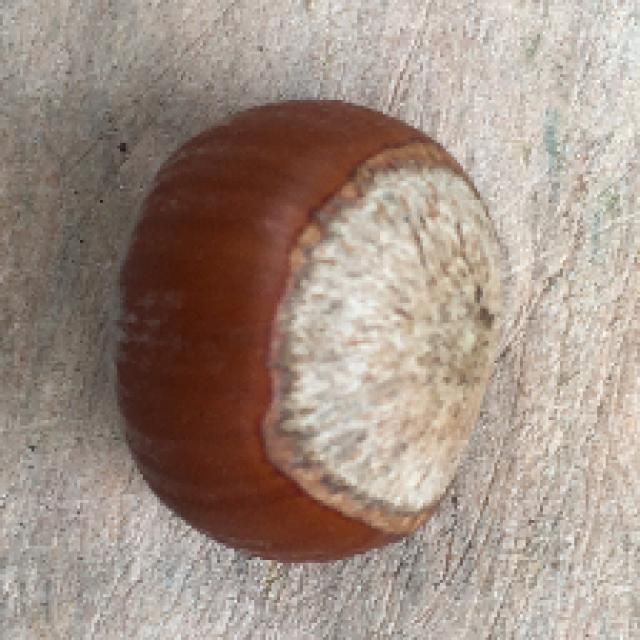qualityHazelnut: (104, 93, 511, 562)
